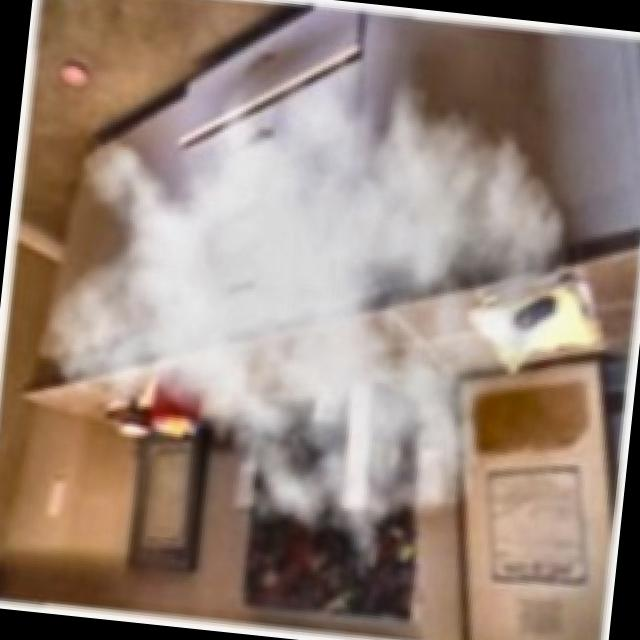smoke: (71, 119, 522, 536)
